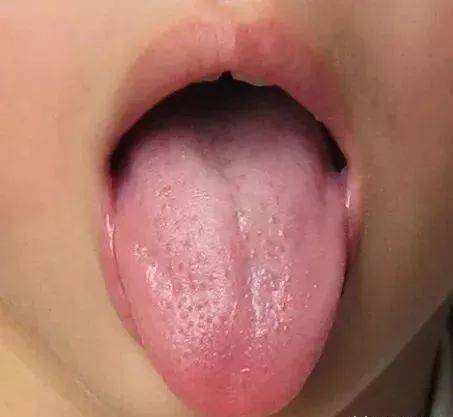baitaishe: (115, 118, 345, 417)
gandanao: (115, 154, 177, 328), (311, 131, 344, 323)
hongdianshe: (180, 316, 222, 372)
